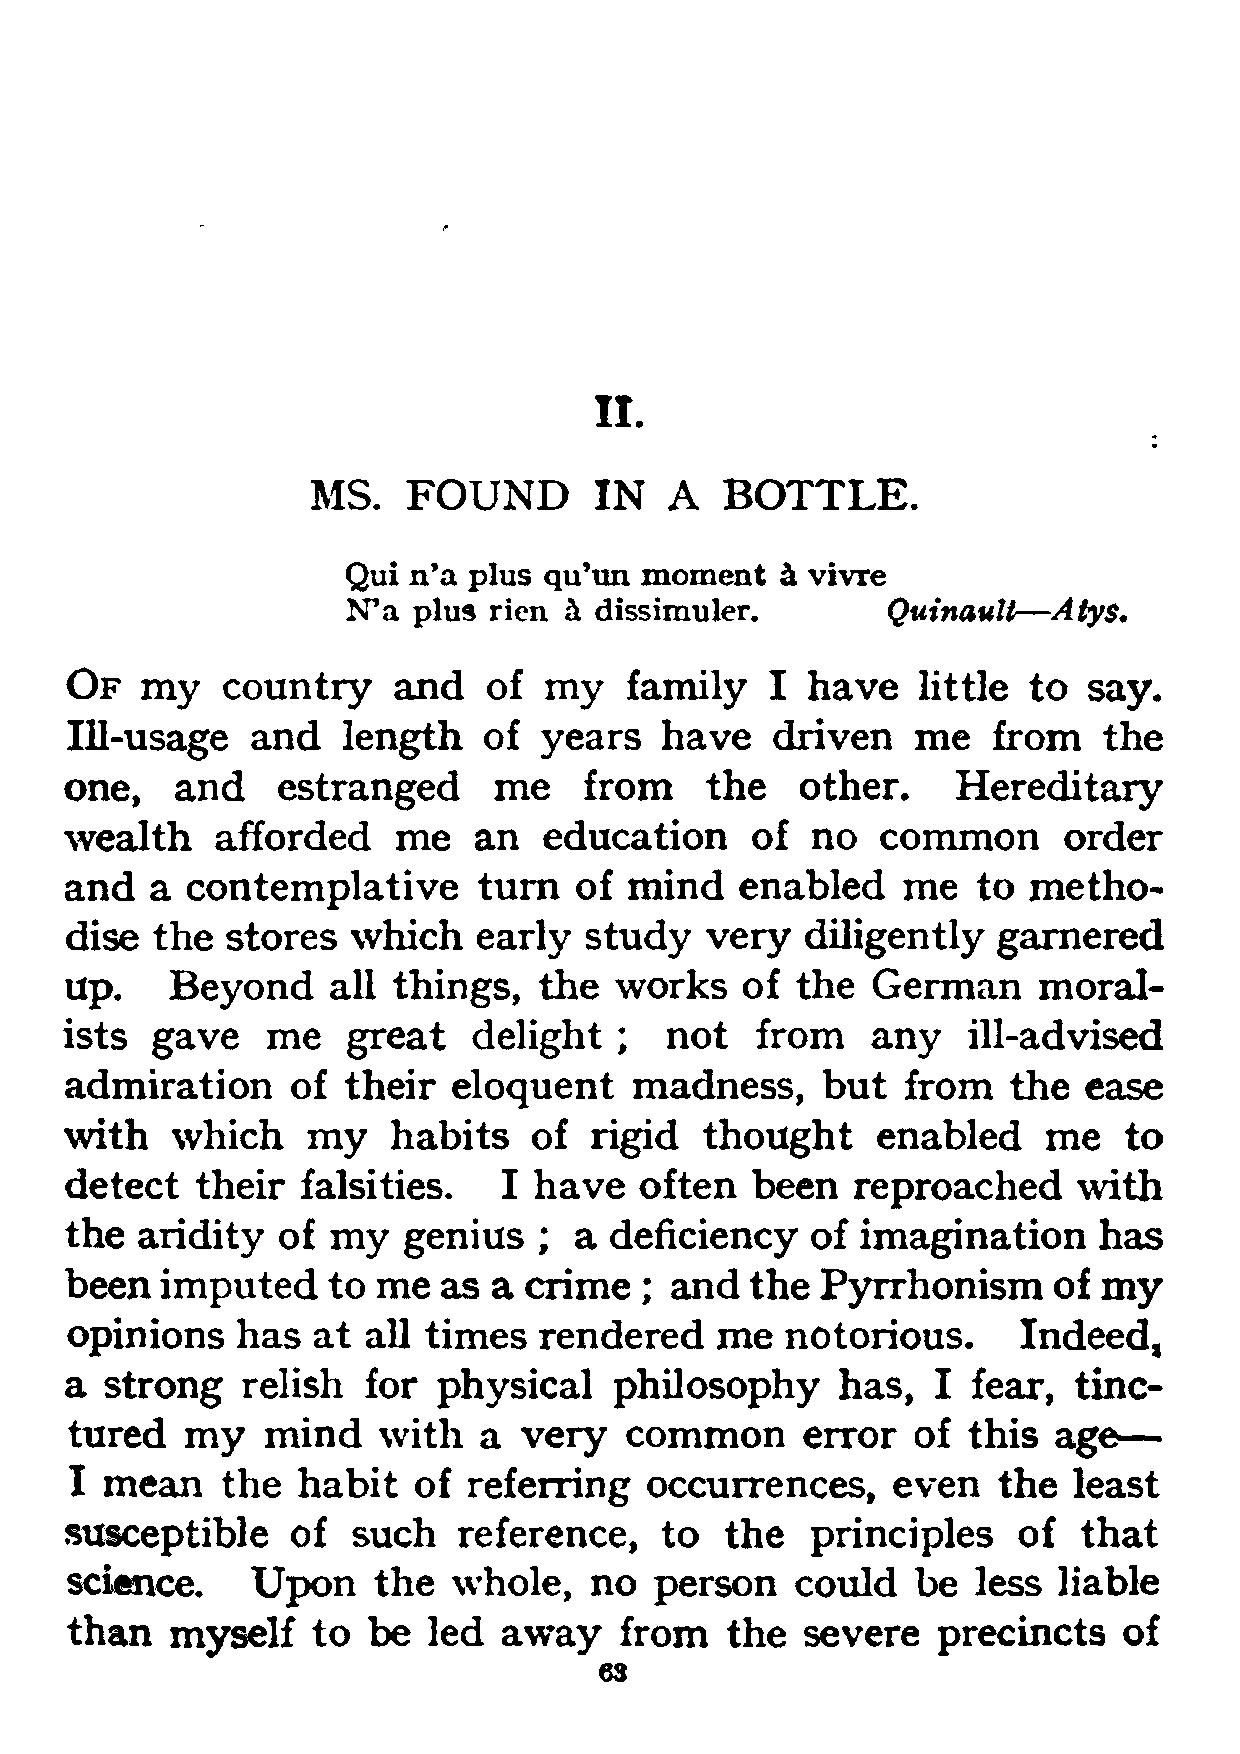chapter: (306, 391, 918, 514)
content: (59, 556, 1168, 1657)
content_pagenumber: (596, 1657, 631, 1686)
